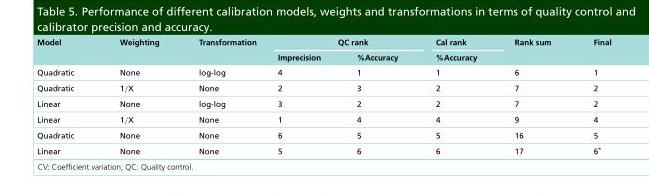table: (36, 36, 610, 155)
table column: (178, 36, 266, 155), (96, 36, 178, 155), (416, 36, 495, 155), (338, 36, 416, 155), (495, 36, 571, 155), (266, 36, 338, 155), (36, 36, 96, 155), (571, 36, 610, 155)
table column header: (36, 36, 610, 64)
table row: (36, 79, 610, 95), (36, 95, 610, 111), (36, 126, 610, 142), (36, 49, 610, 64), (36, 64, 610, 79), (36, 111, 610, 126), (36, 36, 610, 49), (36, 142, 610, 155)
table spanning cell: (178, 36, 266, 64), (96, 36, 178, 64), (416, 36, 495, 64), (495, 36, 571, 64), (266, 36, 416, 49), (36, 36, 96, 64), (571, 36, 610, 64)
